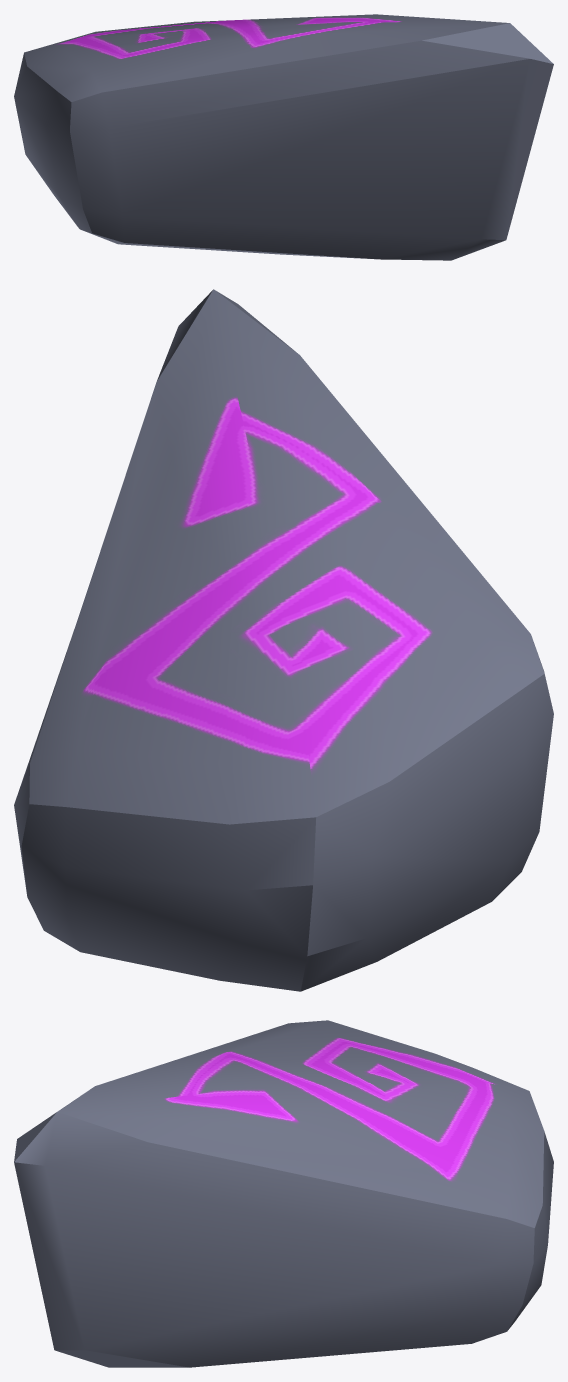
File: RuneRock_Cone.fbx
3 renders of one model, top to bottom at view 1: azimuth 30°, elevation 25°; view 2: azimuth 150°, elevation 25°; view 3: azimuth 270°, elevation 25°, orthographic. The views are drawn at different scales.
Parts seen in each view (by area): view 1: RuneRock_Cone; view 2: RuneRock_Cone; view 3: RuneRock_Cone.
Part boxes in pixels (x1,y1,x2,y2): RuneRock_Cone: [14, 14, 553, 260]; RuneRock_Cone: [14, 289, 553, 991]; RuneRock_Cone: [14, 1020, 553, 1367].
Size of the model in its own units: 183 by 125 by 212.
